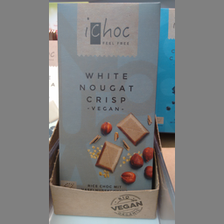chocolate: (56, 2, 160, 192)
